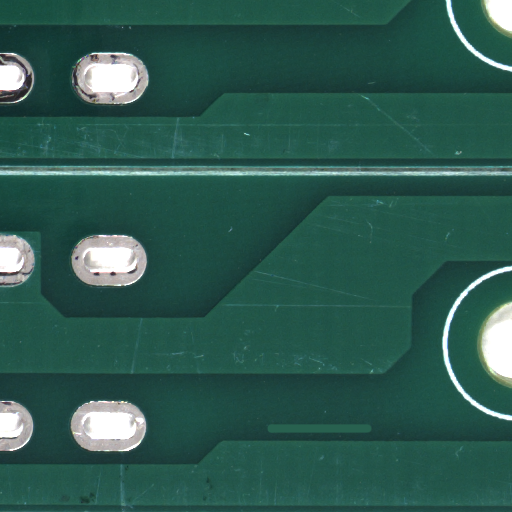Spurious_copper: (318, 427, 424, 440)
